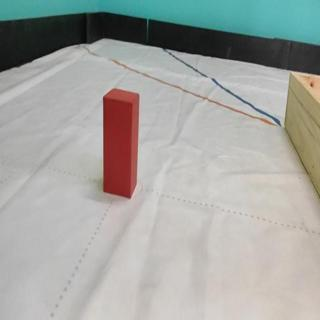redbox: (103, 87, 140, 200)
